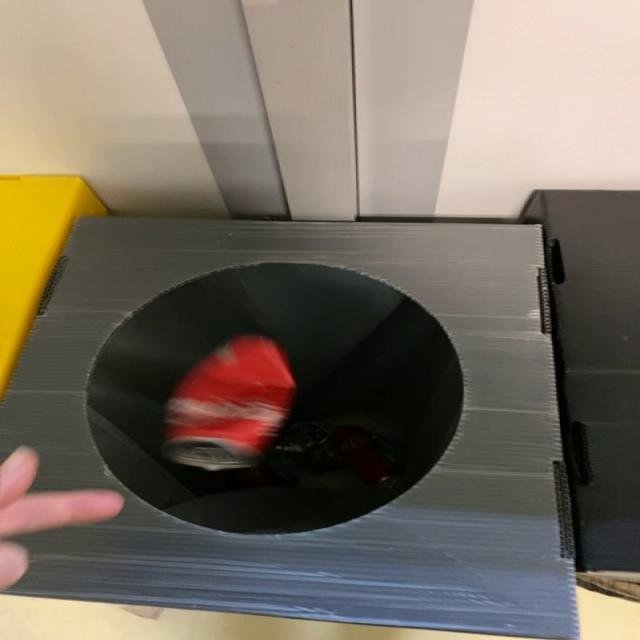Bin: (1, 219, 577, 640)
Metal: (164, 336, 296, 472)
